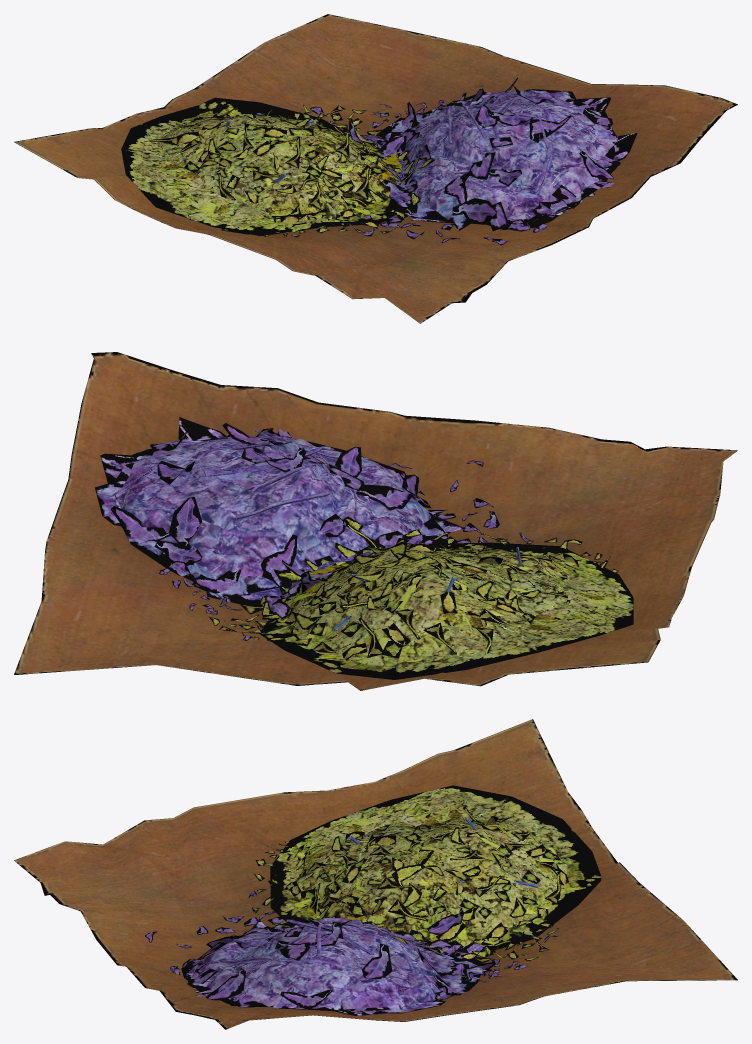
File: 006_GreenBlue_Herb.fbx
3 views of the same model, one above another, from view 1: azimuth 30°, elevation 25°; view 2: azimuth 150°, elevation 25°; view 3: azimuth 270°, elevation 25° (orthographic). The views are drawn at different scales.
Parts seen in each view (by area): view 1: LOD_1_Group_0_Sub_1__sm70_006_HerbsGB01A_B_Mat, LOD_1_Group_2_Sub_1__sm70_006_HerbsGB01A_B_Mat, LOD_1_Group_1_Sub_1__sm70_006_HerbsGB01A_B_Mat, LOD_1_Group_3_Sub_1__sm70_006_HerbsGB01A_B_Mat; view 2: LOD_1_Group_0_Sub_1__sm70_006_HerbsGB01A_B_Mat, LOD_1_Group_1_Sub_1__sm70_006_HerbsGB01A_B_Mat, LOD_1_Group_2_Sub_1__sm70_006_HerbsGB01A_B_Mat, LOD_1_Group_3_Sub_1__sm70_006_HerbsGB01A_B_Mat; view 3: LOD_1_Group_0_Sub_1__sm70_006_HerbsGB01A_B_Mat, LOD_1_Group_2_Sub_1__sm70_006_HerbsGB01A_B_Mat, LOD_1_Group_1_Sub_1__sm70_006_HerbsGB01A_B_Mat, LOD_1_Group_3_Sub_1__sm70_006_HerbsGB01A_B_Mat.
Part boxes in pixels (x1,y1,x2,y2): LOD_1_Group_0_Sub_1__sm70_006_HerbsGB01A_B_Mat: (14,14,737,323); LOD_1_Group_2_Sub_1__sm70_006_HerbsGB01A_B_Mat: (121,97,434,237); LOD_1_Group_1_Sub_1__sm70_006_HerbsGB01A_B_Mat: (310,77,637,245); LOD_1_Group_3_Sub_1__sm70_006_HerbsGB01A_B_Mat: (447,99,553,193); LOD_1_Group_0_Sub_1__sm70_006_HerbsGB01A_B_Mat: (14,352,737,690); LOD_1_Group_1_Sub_1__sm70_006_HerbsGB01A_B_Mat: (95,417,533,640); LOD_1_Group_2_Sub_1__sm70_006_HerbsGB01A_B_Mat: (209,516,633,679); LOD_1_Group_3_Sub_1__sm70_006_HerbsGB01A_B_Mat: (204,430,339,519); LOD_1_Group_0_Sub_1__sm70_006_HerbsGB01A_B_Mat: (14,719,737,1029); LOD_1_Group_2_Sub_1__sm70_006_HerbsGB01A_B_Mat: (252,785,601,962); LOD_1_Group_1_Sub_1__sm70_006_HerbsGB01A_B_Mat: (145,891,557,1015); LOD_1_Group_3_Sub_1__sm70_006_HerbsGB01A_B_Mat: (220,919,414,963).
Size of the model in its own units: 0.2897 by 0.0336 by 0.2866.
